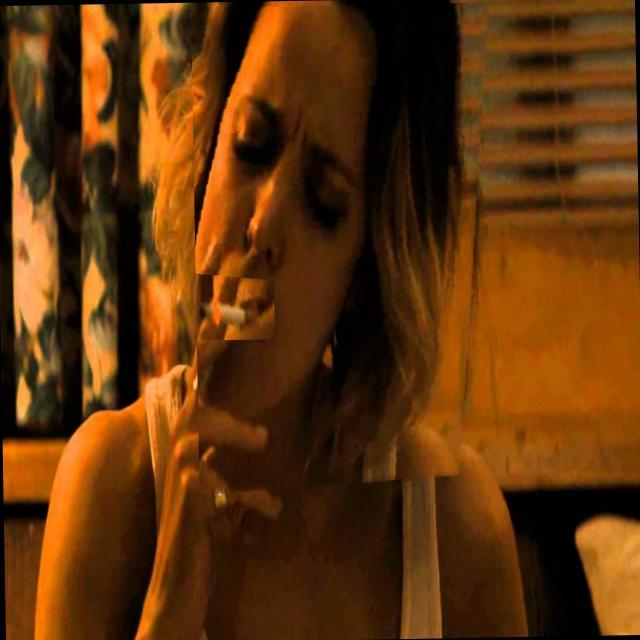cigarette: (195, 272, 274, 340)
